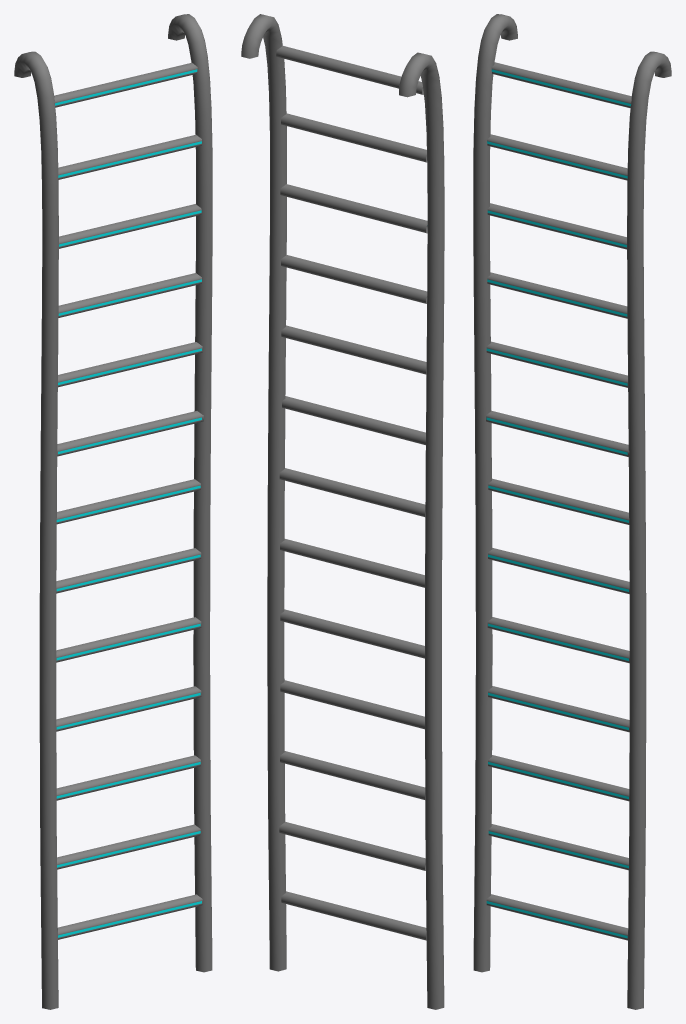
Rendered from Ladder_001b.fbx.
The picture shows the model from 3 angles, left to right: view 1: azimuth 30°, elevation 25°; view 2: azimuth 150°, elevation 25°; view 3: azimuth 330°, elevation 25°; orthographic projection. The views are drawn at different scales.
Parts seen in each view (by area): view 1: Ladder_001b; view 2: Ladder_001b; view 3: Ladder_001b.
Boxes of the visible parts, box(x1,y1,x2,y2) form: Ladder_001b: box(14, 14, 212, 1009); Ladder_001b: box(241, 14, 444, 1009); Ladder_001b: box(473, 14, 671, 1009).
Size of the model in its own units: 144 by 757 by 53.09.
